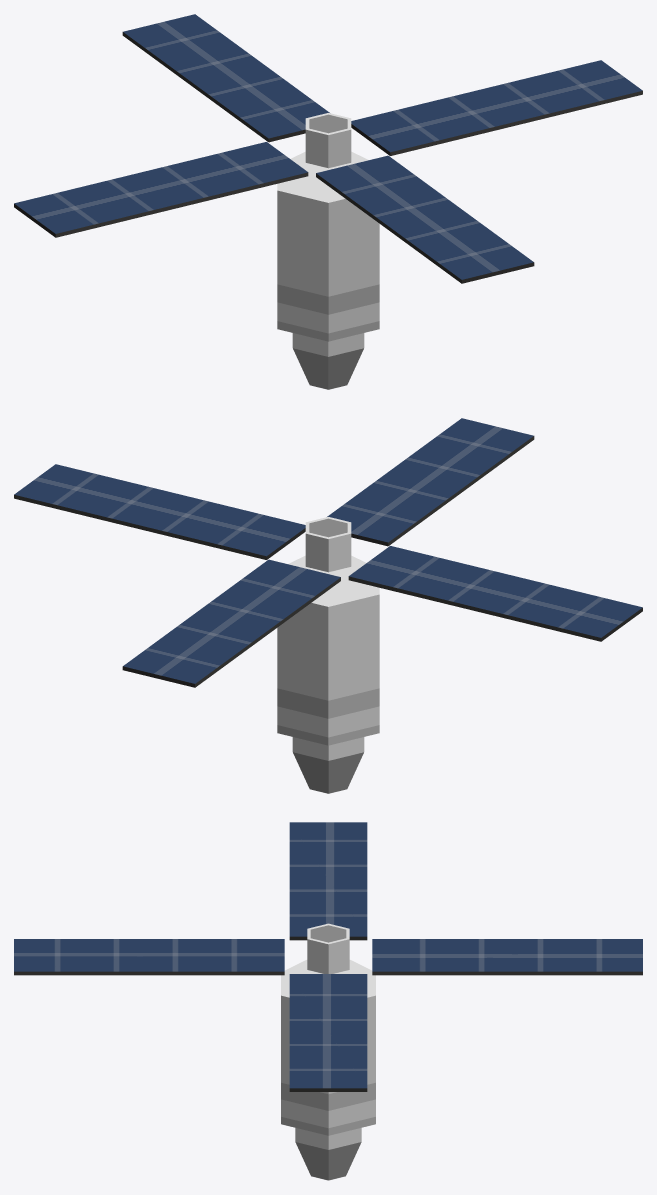
File: SM_Veh_Satellite_05.fbx
3 renders of one model, top to bottom at view 1: azimuth 30°, elevation 25°; view 2: azimuth 150°, elevation 25°; view 3: azimuth 270°, elevation 25°, orthographic. The views are drawn at different scales.
Visible parts, largest first — view 1: SM_Veh_Satellite_05; view 2: SM_Veh_Satellite_05; view 3: SM_Veh_Satellite_05.
Boxes of the visible parts, bbox=[...] form: SM_Veh_Satellite_05: bbox=[14, 14, 642, 389]; SM_Veh_Satellite_05: bbox=[14, 418, 642, 793]; SM_Veh_Satellite_05: bbox=[14, 822, 642, 1180].
Size of the model in its own units: 5.89 by 2.46 by 5.89.
